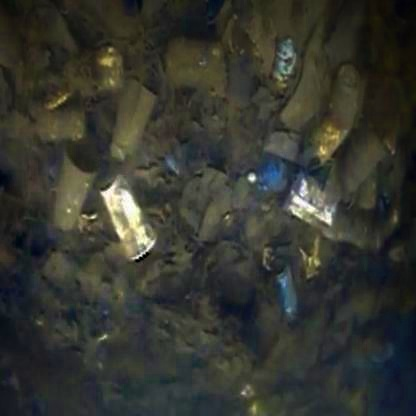can: (102, 180, 169, 266)
pbottle: (276, 217, 298, 347)
